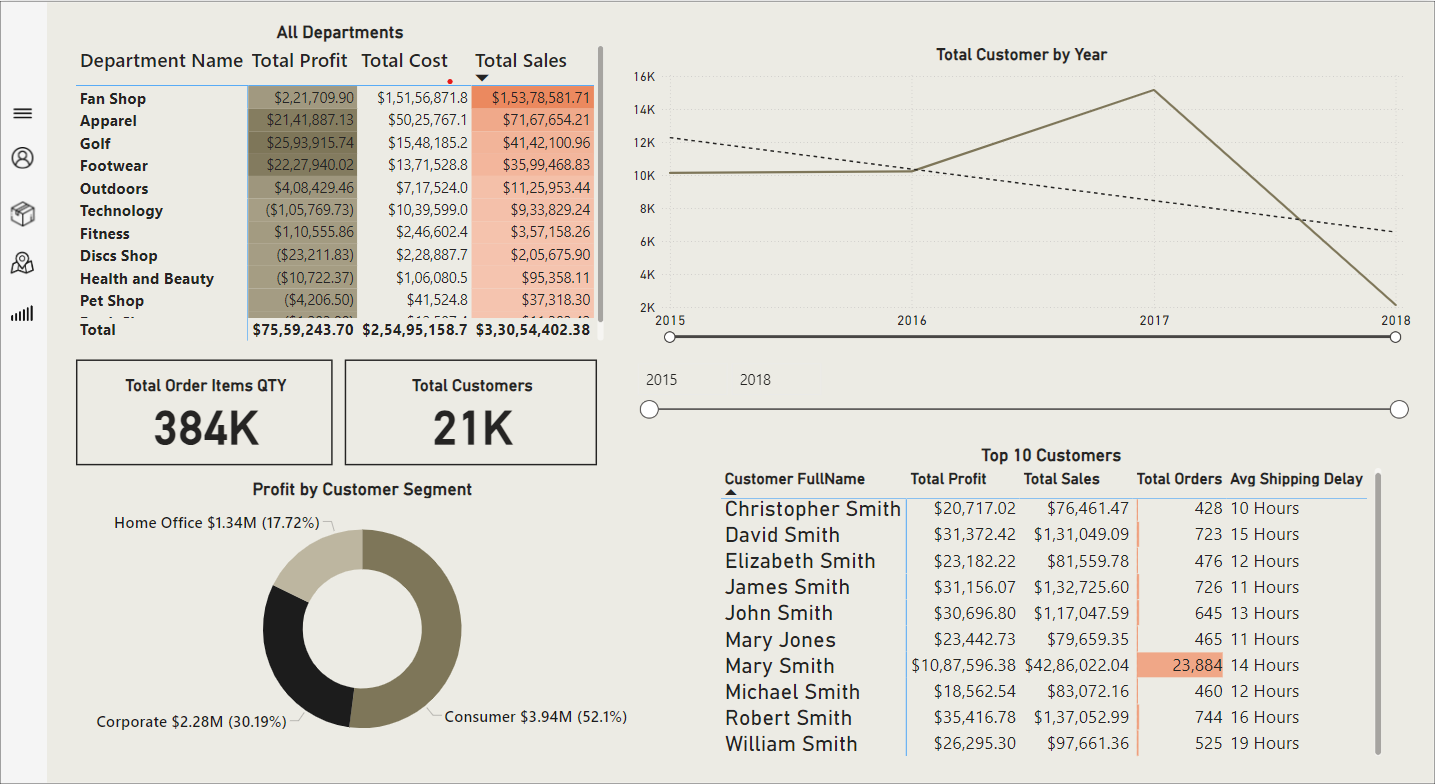

The dashboard page shown, as its layout file describes it:
{"tool":"powerbi","page":{"name":"Customer Insights","canvas":[1980,1080],"ordinal":1},"visuals":[{"type":"actionButton","box":[10.2,122.7,42,66.7],"z":0,"group":"g1"},{"type":"donutChart","title":"Profit by Customer Segment","fields":{"Series":["DataCoSupplyChainDataset.Customer Segment"],"Y":["Measure.Total Profit"]},"box":[64,658,872,388],"z":0},{"type":"pivotTable","title":"All Departments","fields":{"Rows":["DataCoSupplyChainDataset.Department Name"],"Values":["Measure.Total Profit","Measure.Total Cost","Measure.Total Sales"]},"box":[100,30,738,444],"z":1000},{"type":"actionButton","box":[12.2,186.4,38,60],"z":1000,"group":"g1"},{"type":"lineChart","title":"Total Customer by Year","fields":{"Y":["Measure.Unique Customer"],"Category":["DataCoSupplyChainDataset.order date (DateOrders).Variation.Date Hierarchy.Year","DataCoSupplyChainDataset.order date (DateOrders).Variation.Date Hierarchy.Quarter","DataCoSupplyChainDataset.order date (DateOrders).Variation.Date Hierarchy.Month","DataCoSupplyChainDataset.order date (DateOrders).Variation.Date Hierarchy.Day"]},"box":[868,60,1084,414],"z":2000},{"type":"actionButton","box":[5.9,243.4,49.3,88.6],"z":2000,"group":"g1"},{"type":"image","box":[8.4,329,44.5,63],"z":3000,"group":"g1"},{"type":"cardVisual","fields":{"Data":["Measure.Unique Customer"]},"box":[470,490,358,156],"z":3000},{"type":"image","box":[4,389,54,88],"z":4000,"group":"g1"},{"type":"cardVisual","fields":{"Data":["Measure.Sum of Total Orders"]},"box":[100,490,364,156],"z":4000},{"type":"pivotTable","fields":{"Rows":["DataCoSupplyChainDataset.Customer FullName"],"Values":["Measure.Total Profit","Measure.Total Sales","Measure.Total Order Count","Measure.Avg Shipping Delay"]},"box":[990,612,908,434],"z":5000},{"type":"slicer","fields":{"Values":["DataCoSupplyChainDataset.order date (DateOrders).Variation.Date Hierarchy.Year"]},"box":[868,490,1084,122],"z":6000},{"type":"group","id":"g1","title":"Group 5","box":[4,122.7,54,354.3],"z":7000}]}

Visuals, with their boxes on the page's 1980x1080 design canvas (x1, y1, x2, y2). These are canvas units, not pixel positions in the 1435x784 screenshot, which may show the page scaled, cropped or inside an application window:
actionButton: (10,123,52,189)
"Profit by Customer Segment" donutChart: (64,658,936,1046)
"All Departments" pivotTable: (100,30,838,474)
actionButton: (12,186,50,246)
"Total Customer by Year" lineChart: (868,60,1952,474)
actionButton: (6,243,55,332)
image: (8,329,53,392)
cardVisual - Measure.Unique Customer: (470,490,828,646)
image: (4,389,58,477)
cardVisual - Measure.Sum of Total Orders: (100,490,464,646)
pivotTable - DataCoSupplyChainDataset.Customer FullName x Measure.Total Profit: (990,612,1898,1046)
slicer - DataCoSupplyChainDataset.order date (DateOrders).Variation.Date Hierarchy.Year: (868,490,1952,612)
"Group 5" group: (4,123,58,477)
